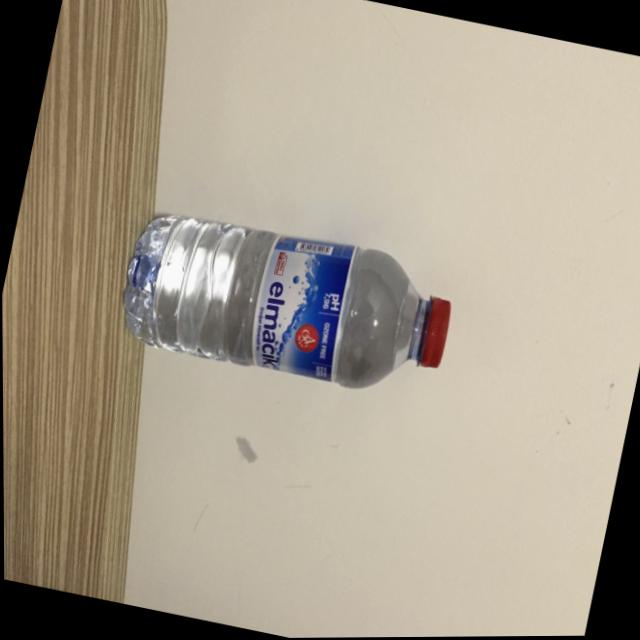anorganik: (110, 180, 476, 443)
